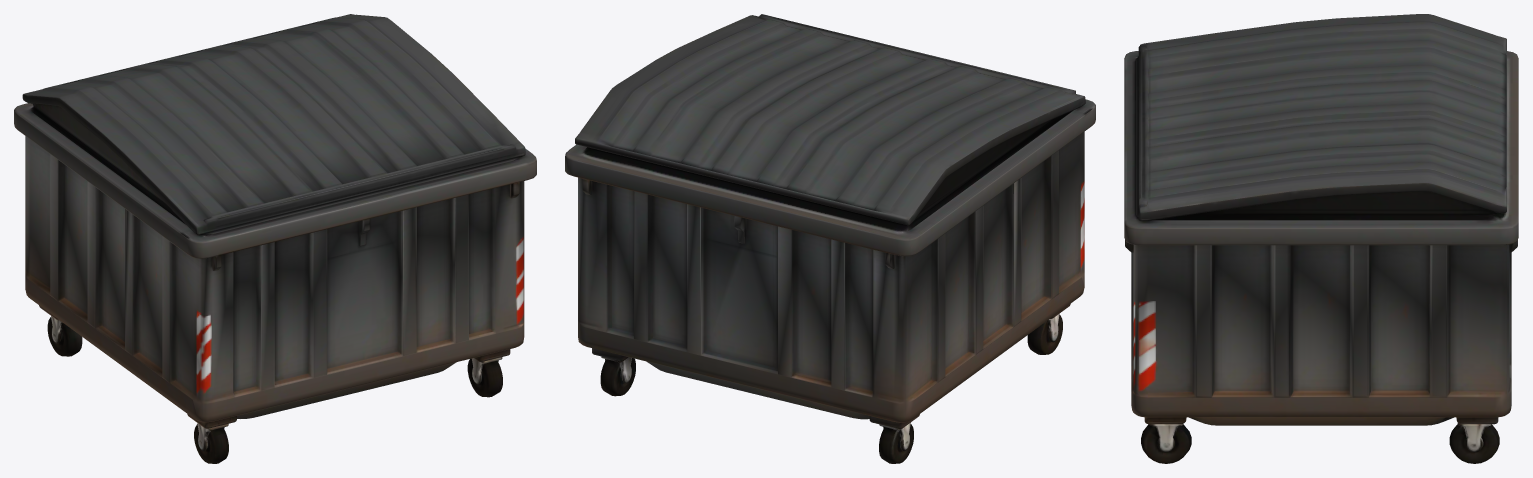
The model's file is Industrial__large_dumpster_city_realistic_style_736a08e1_v2.cluster.glb.
The picture shows the model from 3 angles, left to right: view 1: azimuth 30°, elevation 25°; view 2: azimuth 150°, elevation 25°; view 3: azimuth 270°, elevation 25°; orthographic projection. The views are drawn at different scales.
Parts seen in each view (by area): view 1: mesh_input; view 2: mesh_input; view 3: mesh_input.
Part boxes in pixels (bbox=[...]): mesh_input: bbox=[14, 14, 536, 463]; mesh_input: bbox=[565, 14, 1095, 463]; mesh_input: bbox=[1124, 14, 1518, 463].
Size of the model in its own units: 1.9 by 1.47 by 1.78.
1 material, 1 textured.
